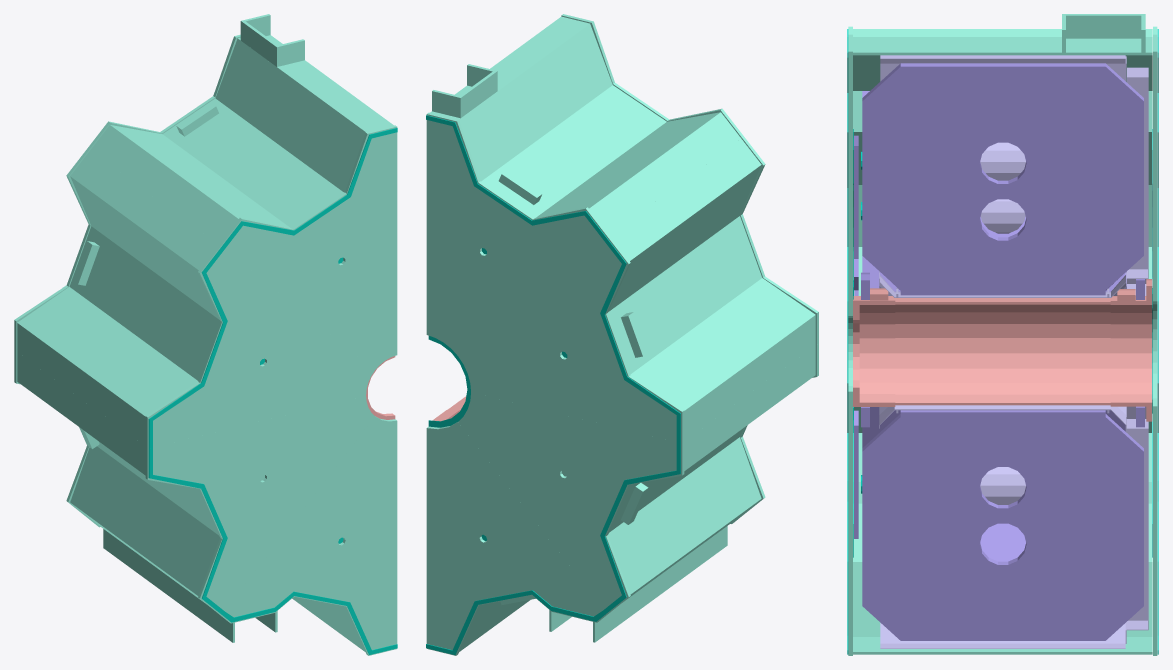
File: End-Cap-Toroid-SideC-cut2.glb
3 renders of one model, left to right at view 1: azimuth 30°, elevation 25°; view 2: azimuth 150°, elevation 25°; view 3: azimuth 270°, elevation 25°, orthographic. The views are drawn at different scales.
Visible parts, largest first — view 1: S__03F42908, S__041BAE98; view 2: S__03F42908, S__041BAE98; view 3: S__04191DC8, S__0419EAA8, S__03F42908, S__03F37E38, S__041BAE98.
Part boxes in pixels (x1,y1,x2,y2): S__03F42908: (14, 14, 397, 655); S__041BAE98: (148, 128, 397, 654); S__03F42908: (426, 14, 818, 655); S__041BAE98: (426, 115, 680, 654); S__04191DC8: (854, 63, 1144, 640); S__0419EAA8: (853, 279, 1152, 421); S__03F42908: (848, 14, 1157, 655); S__03F37E38: (879, 55, 1148, 648); S__041BAE98: (847, 29, 1158, 654).
Size of the model in its own units: 5.34 by 11.07 by 4.98.
